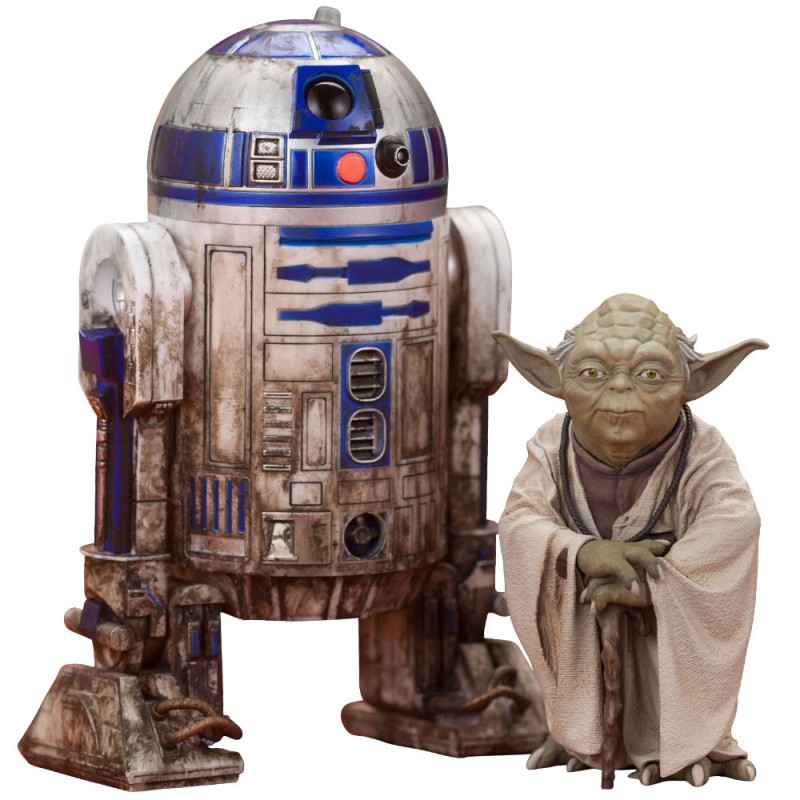r2d2: (18, 6, 550, 792)
